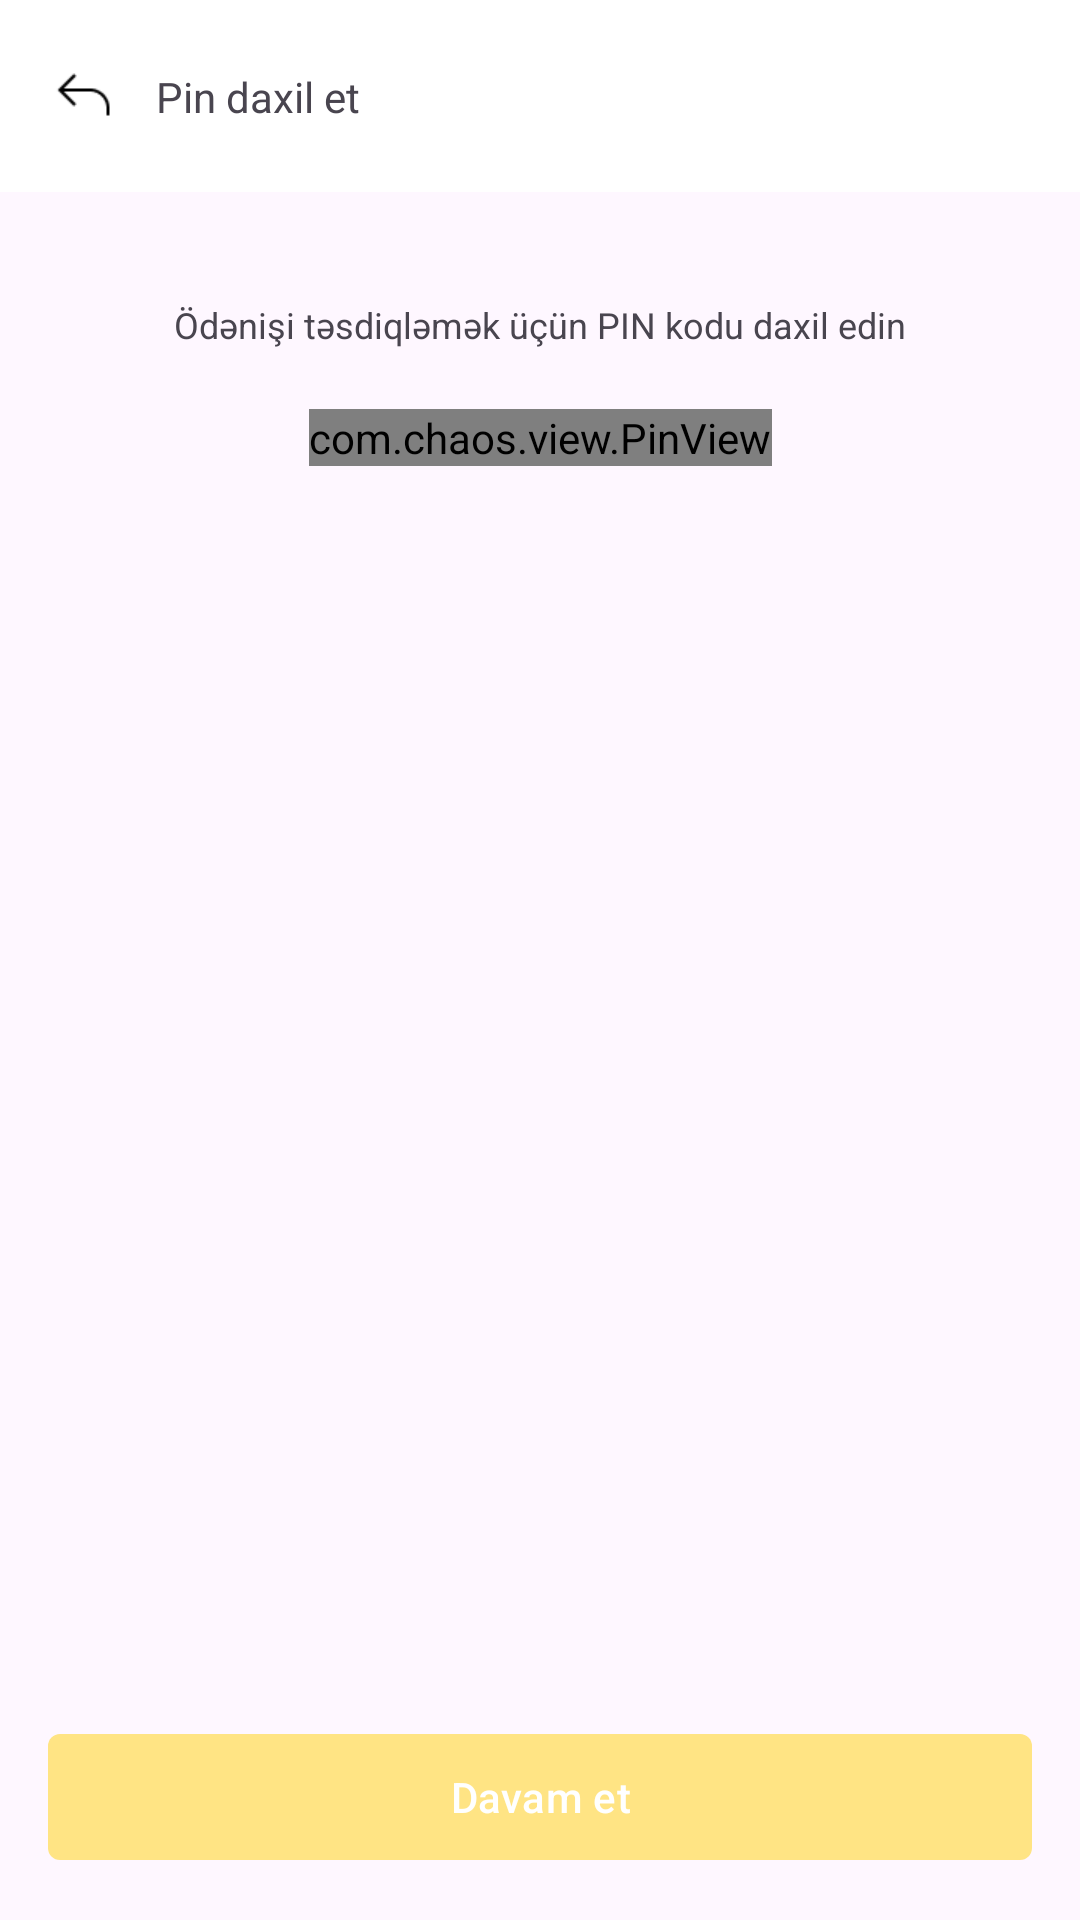

Icon bounding boxes for this 1080*1920 phone screenshot, format [left=x1, top=y1, right=x2, bottom=y2]:
back: [left=57, top=73, right=110, bottom=116]
